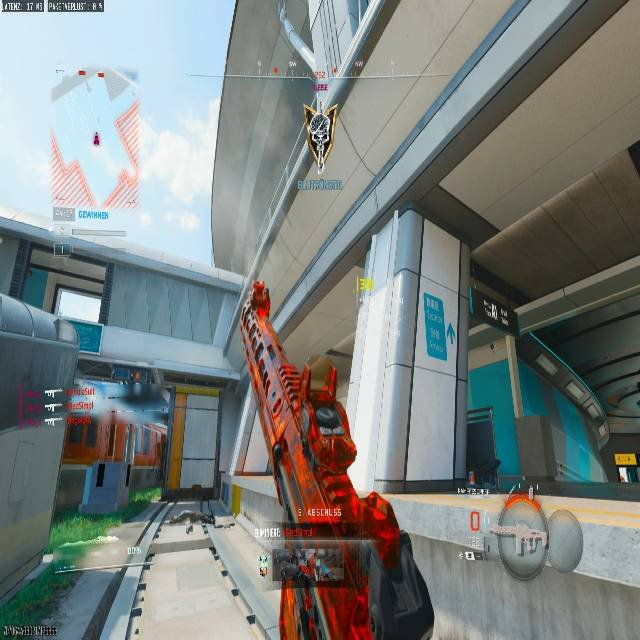head: (254, 280, 264, 292)
player: (262, 396, 447, 639)
